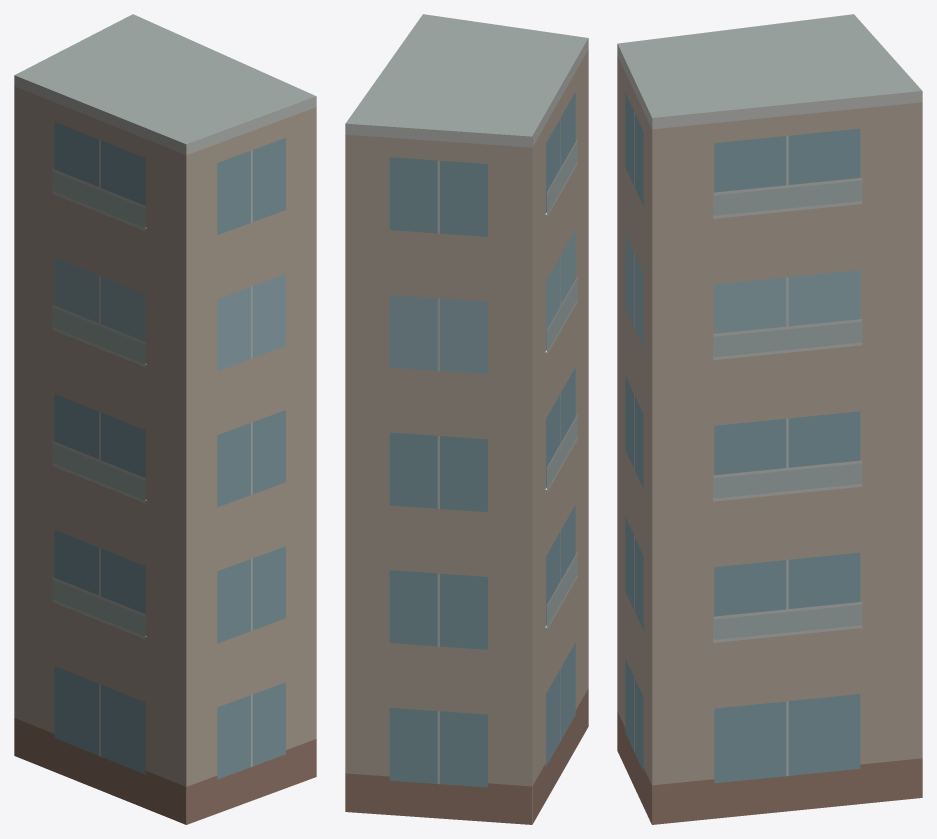
Rendered from survey-upis-33003046.glb.
3 views of the same model, side by side, from view 1: azimuth 30°, elevation 25°; view 2: azimuth 150°, elevation 25°; view 3: azimuth 270°, elevation 25° (orthographic). The views are drawn at different scales.
Parts seen in each view (by area): view 1: survey-upis-33003046.tmp; view 2: survey-upis-33003046.tmp; view 3: survey-upis-33003046.tmp.
Part boxes in pixels (x1,y1,x2,y2): survey-upis-33003046.tmp: (14, 14, 316, 824); survey-upis-33003046.tmp: (345, 14, 588, 824); survey-upis-33003046.tmp: (617, 14, 922, 824).
Size of the model in its own units: 4.82 by 15.25 by 5.98.
